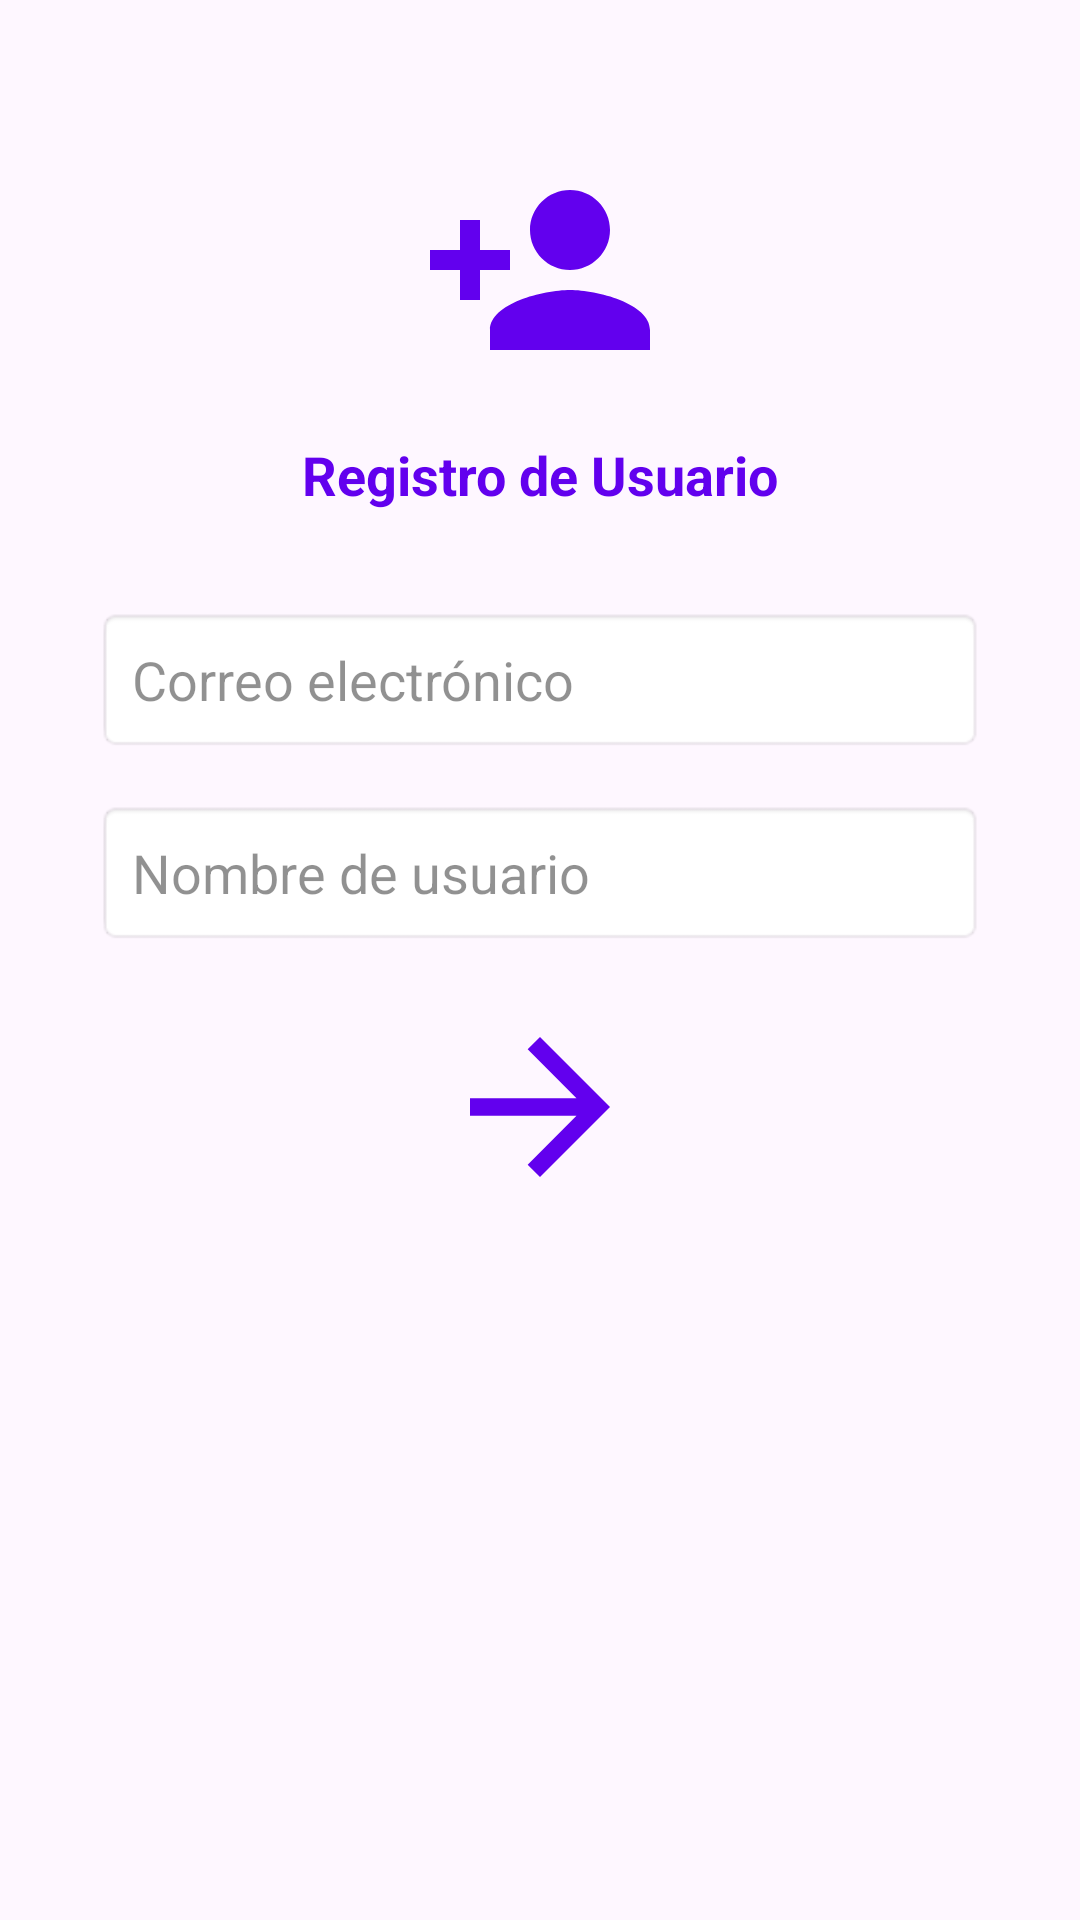

Where icons sit on this 1080 × 1920 app screen, as BBox(x1, y1, x2, y2):
login: BBox(470, 1037, 610, 1177)
user register: BBox(430, 190, 650, 350)
